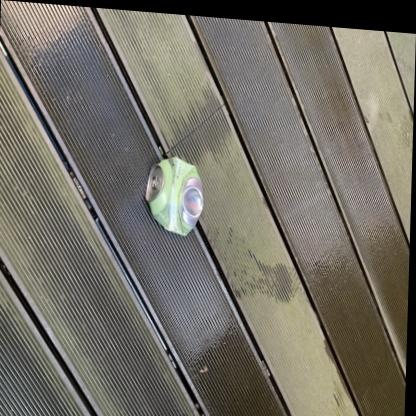trash: (146, 157, 202, 235)
